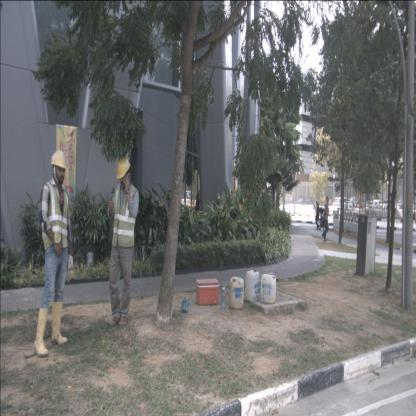human-pedestrian-adult: (321, 195, 331, 242), (314, 200, 320, 231), (345, 202, 348, 217)
vehicle-car: (333, 197, 349, 210), (364, 201, 382, 212)
vehicle-motorcycle: (316, 207, 327, 231)
